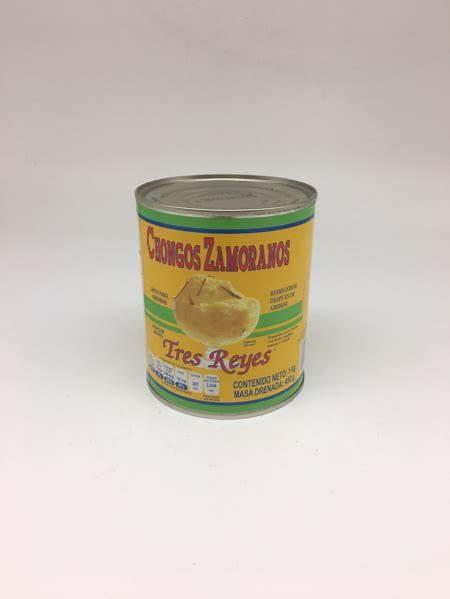metal: (135, 175, 317, 418)
